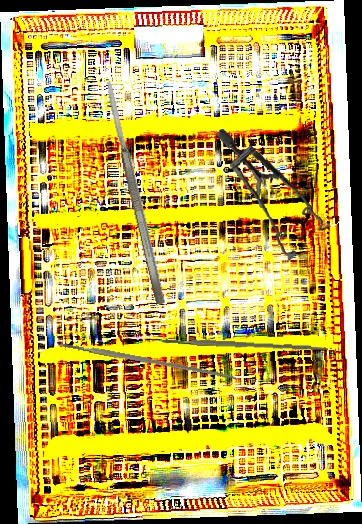Scalpel Handle: (58, 339, 238, 382), (160, 336, 329, 353)
Spatula Surgical: (103, 79, 167, 306)
Speculum: (216, 118, 334, 268)
